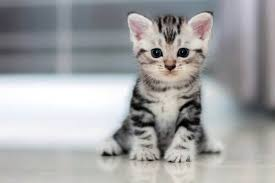Gato: (106, 7, 231, 170)
